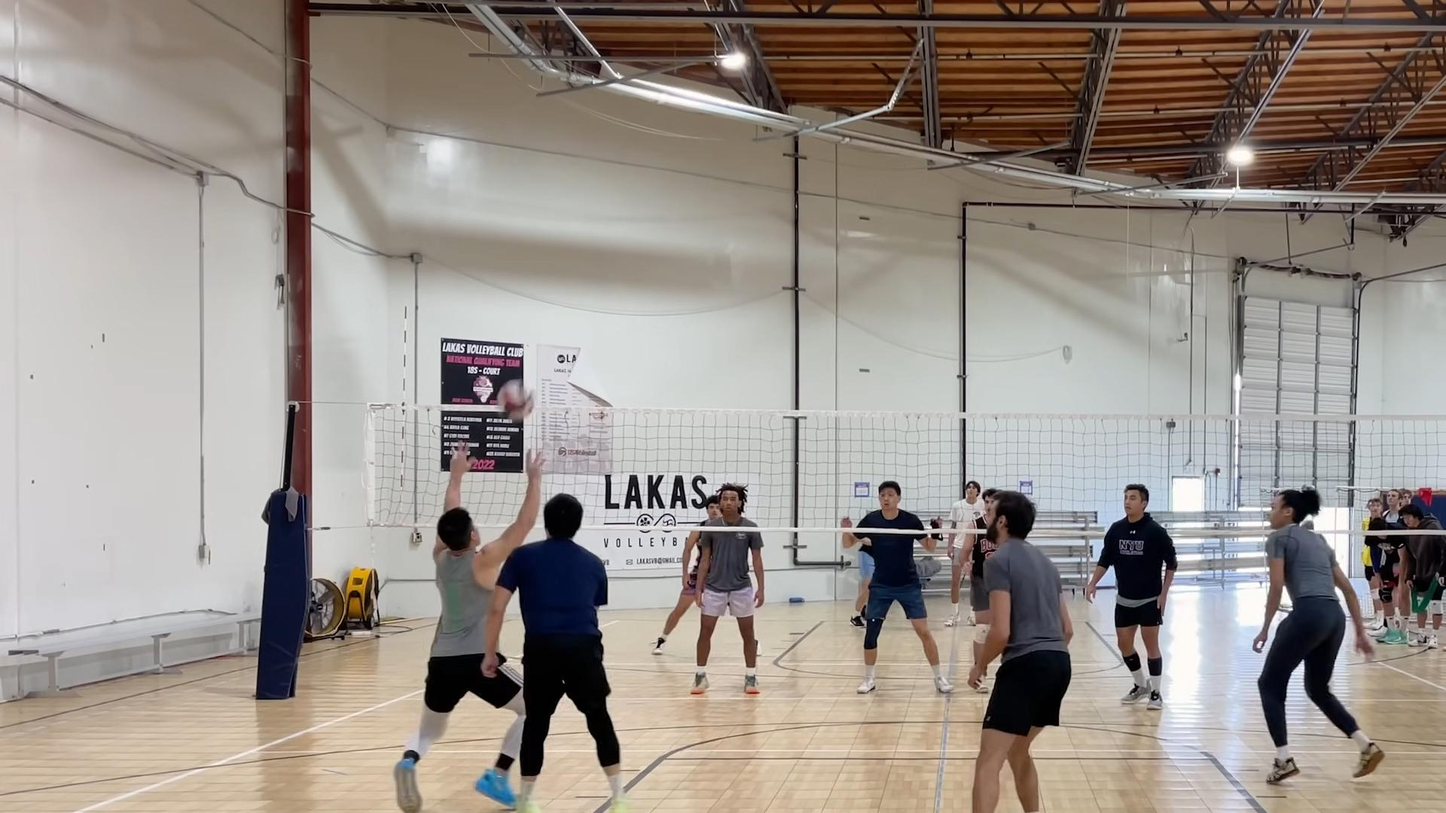ricezione: (393, 445, 549, 808)
